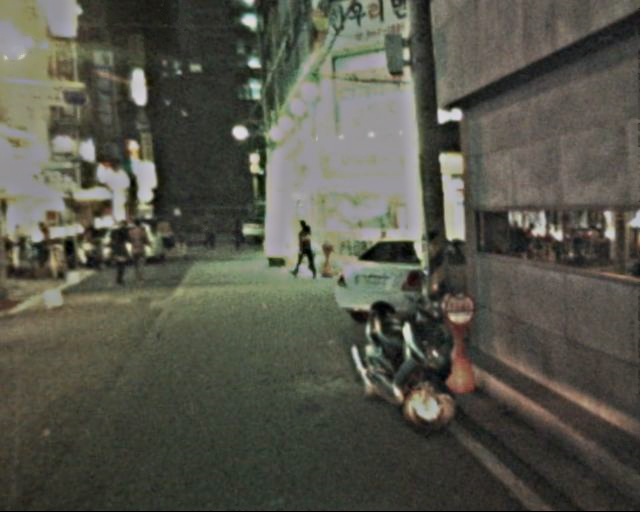person: (126, 219, 157, 284), (294, 216, 323, 278), (107, 223, 134, 285), (168, 208, 190, 255), (226, 211, 247, 255), (155, 213, 175, 257), (202, 210, 220, 253)
